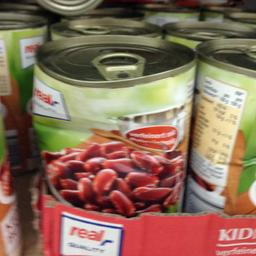beans: (32, 35, 195, 216)
